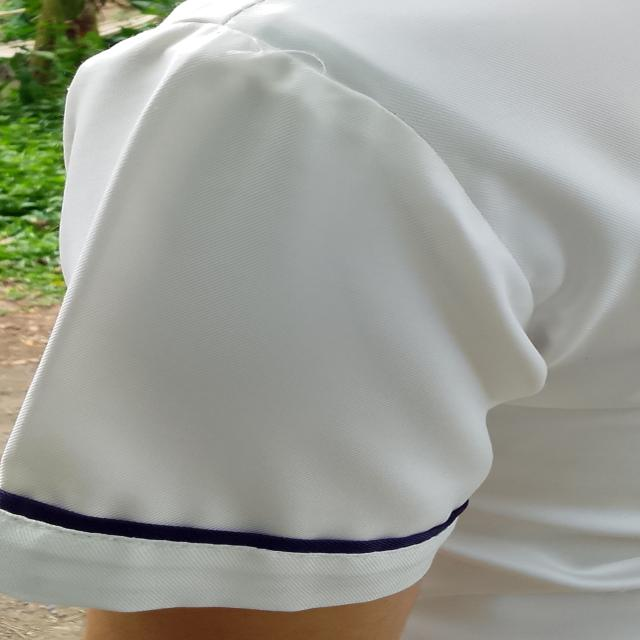education_female_uniform: (1, 1, 640, 630)
